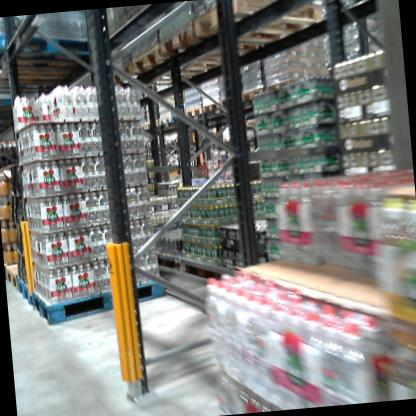pallet: (152, 13, 288, 78), (26, 270, 171, 325), (0, 22, 109, 89), (192, 0, 334, 51), (132, 34, 257, 91), (0, 49, 103, 96), (108, 52, 217, 96), (6, 256, 78, 293), (14, 273, 36, 314), (239, 84, 266, 104), (203, 100, 225, 118), (186, 105, 207, 121), (218, 94, 238, 110), (154, 116, 172, 130), (171, 111, 187, 125), (146, 119, 161, 130)
